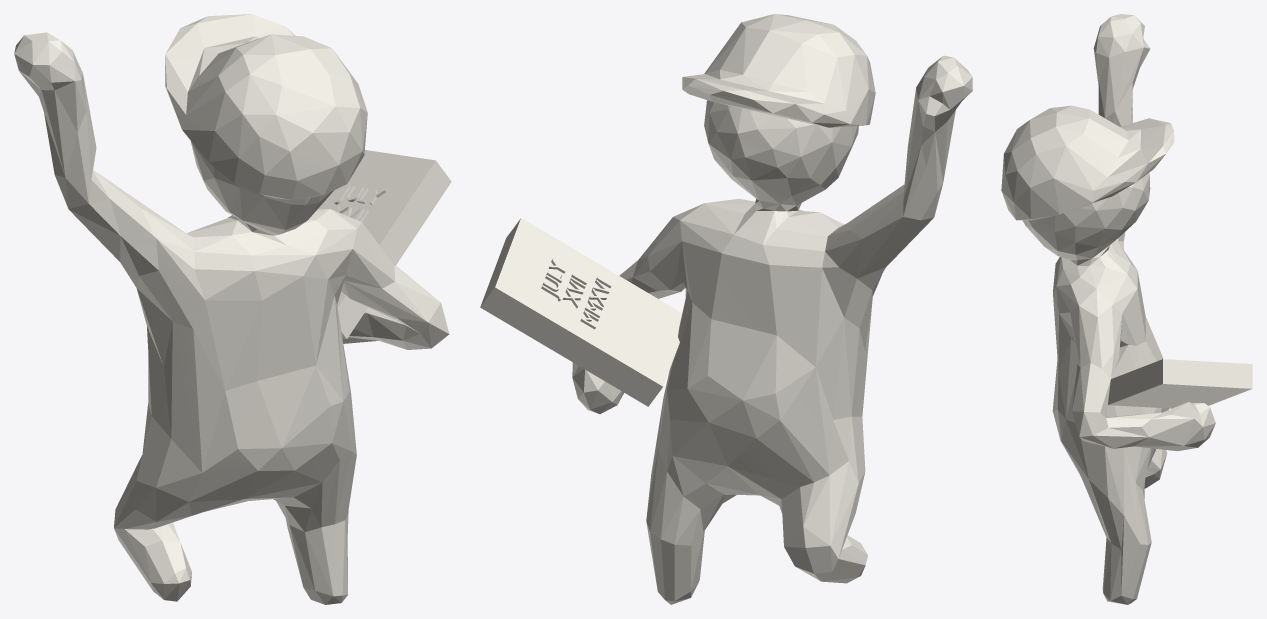
The model's file is BuilderHumanStatue1.fbx.
The picture shows the model from 3 angles, left to right: view 1: azimuth 30°, elevation 25°; view 2: azimuth 150°, elevation 25°; view 3: azimuth 270°, elevation 25°; orthographic projection. The views are drawn at different scales.
Parts seen in each view (by area): view 1: BuilderHumanStatue1, Book, ReleaseDate_001; view 2: BuilderHumanStatue1, Book, ReleaseDate_001; view 3: BuilderHumanStatue1, Book.
Part boxes in pixels (x1,y1,x2,y2): BuilderHumanStatue1: (14, 14, 449, 604); Book: (317, 150, 451, 339); ReleaseDate_001: (333, 185, 385, 221); BuilderHumanStatue1: (572, 14, 972, 604); Book: (480, 218, 682, 406); ReleaseDate_001: (541, 258, 611, 329); BuilderHumanStatue1: (1001, 14, 1215, 604); Book: (1108, 359, 1252, 408).
Size of the model in its own units: 511 by 676 by 319.
Materials: 1 (1 with a texture image).
